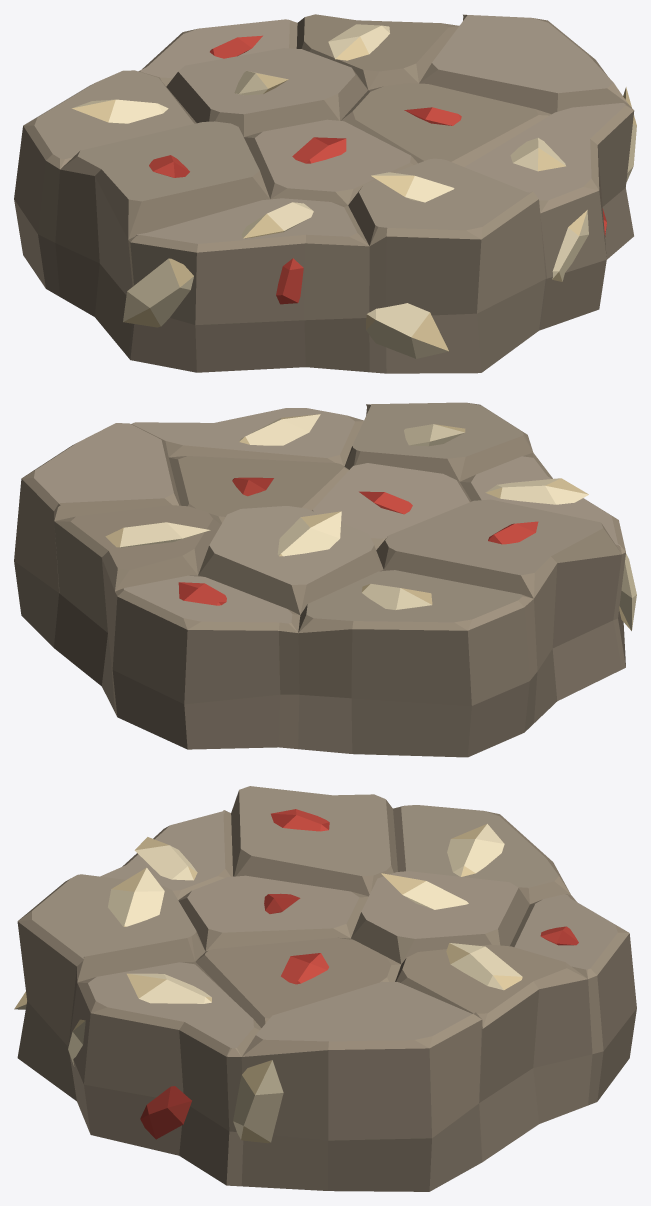
File: FMS_Workshop_PRD_14.fbx
3 views of the same model, one above another, from view 1: azimuth 30°, elevation 25°; view 2: azimuth 150°, elevation 25°; view 3: azimuth 270°, elevation 25° (orthographic). The views are drawn at different scales.
Parts seen in each view (by area): view 1: FMS_Workshop_PRD_14_Body; view 2: FMS_Workshop_PRD_14_Body; view 3: FMS_Workshop_PRD_14_Body.
Part boxes in pixels (x1=…): FMS_Workshop_PRD_14_Body: x1=14, y1=14, x2=636, y2=373; FMS_Workshop_PRD_14_Body: x1=14, y1=402, x2=636, y2=757; FMS_Workshop_PRD_14_Body: x1=14, y1=786, x2=636, y2=1191.
Size of the model in its own units: 0.3075 by 0.0904 by 0.3053.
Materials: 1 (1 with a texture image).
